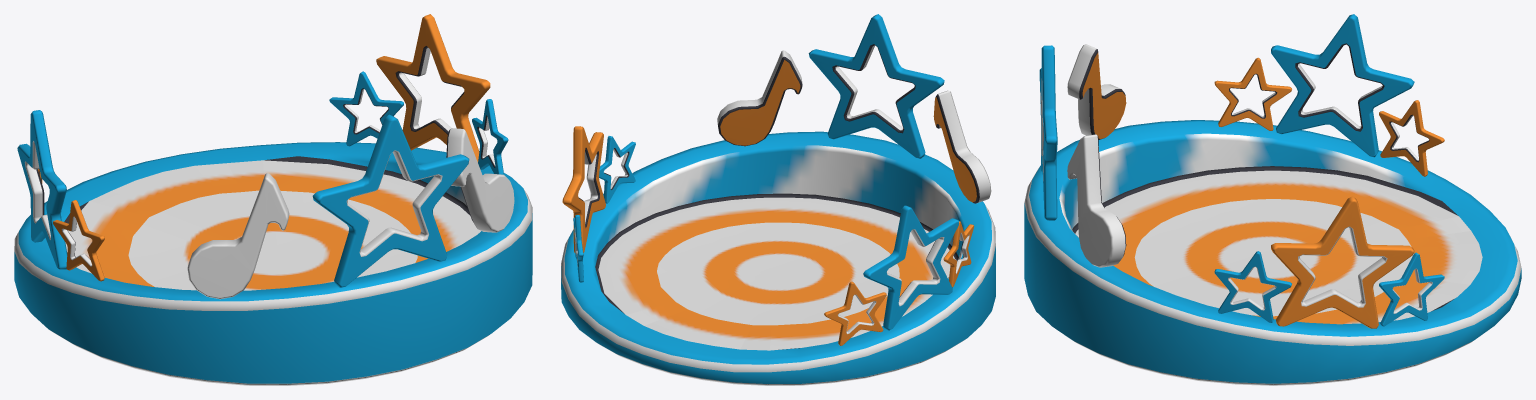
The model's file is Scene Karaoke.fbx.
3 views of the same model, side by side, from view 1: azimuth 30°, elevation 25°; view 2: azimuth 150°, elevation 25°; view 3: azimuth 270°, elevation 25° (orthographic). The views are drawn at different scales.
Visible parts, largest first — view 1: scene_karaoke; view 2: scene_karaoke; view 3: scene_karaoke.
Part boxes in pixels (x1,y1,x2,y2): scene_karaoke: [14, 14, 532, 385]; scene_karaoke: [561, 14, 995, 385]; scene_karaoke: [1024, 14, 1521, 385].
Size of the model in its own units: 100 by 52.82 by 100.
1 material, 1 textured.
